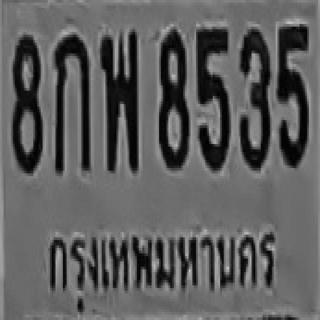A01: (54, 32, 89, 171)
A30: (98, 28, 137, 169)
N03: (239, 27, 268, 168)
N05: (195, 27, 228, 168), (276, 24, 307, 165)
N08: (157, 27, 187, 168), (11, 32, 41, 171)
P04: (42, 220, 280, 314)
